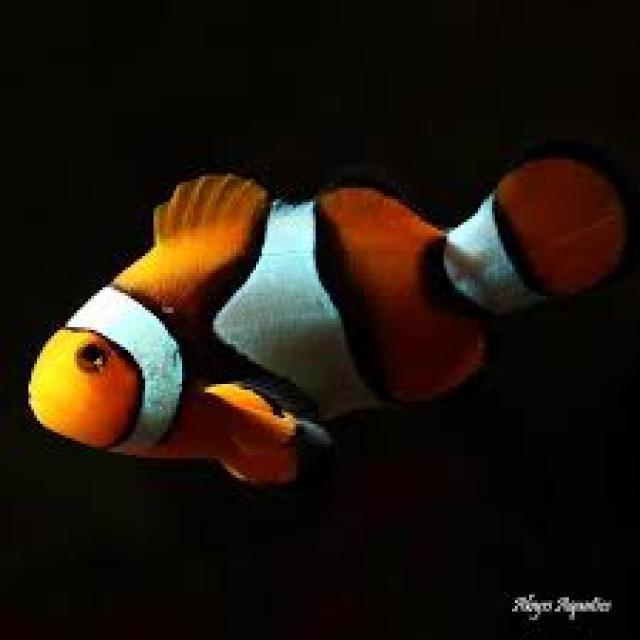ClownFish: (29, 146, 627, 476)
